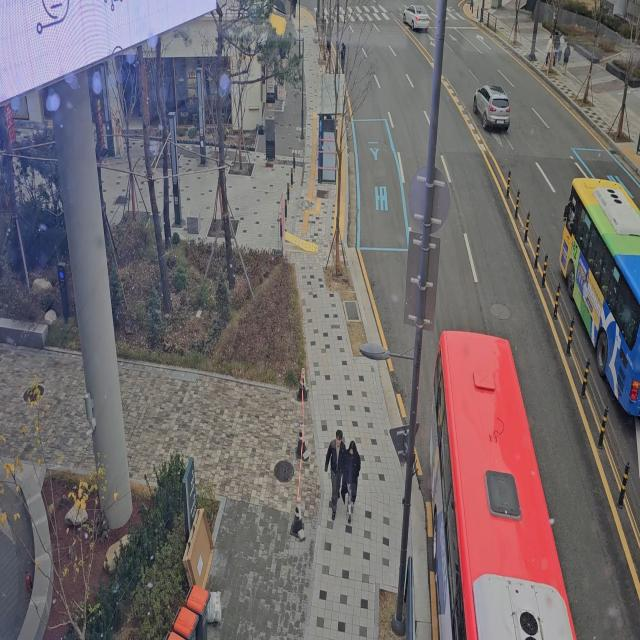Bus: (413, 311, 594, 640), (548, 155, 640, 433)
Car: (474, 72, 517, 136), (401, 2, 435, 32)
